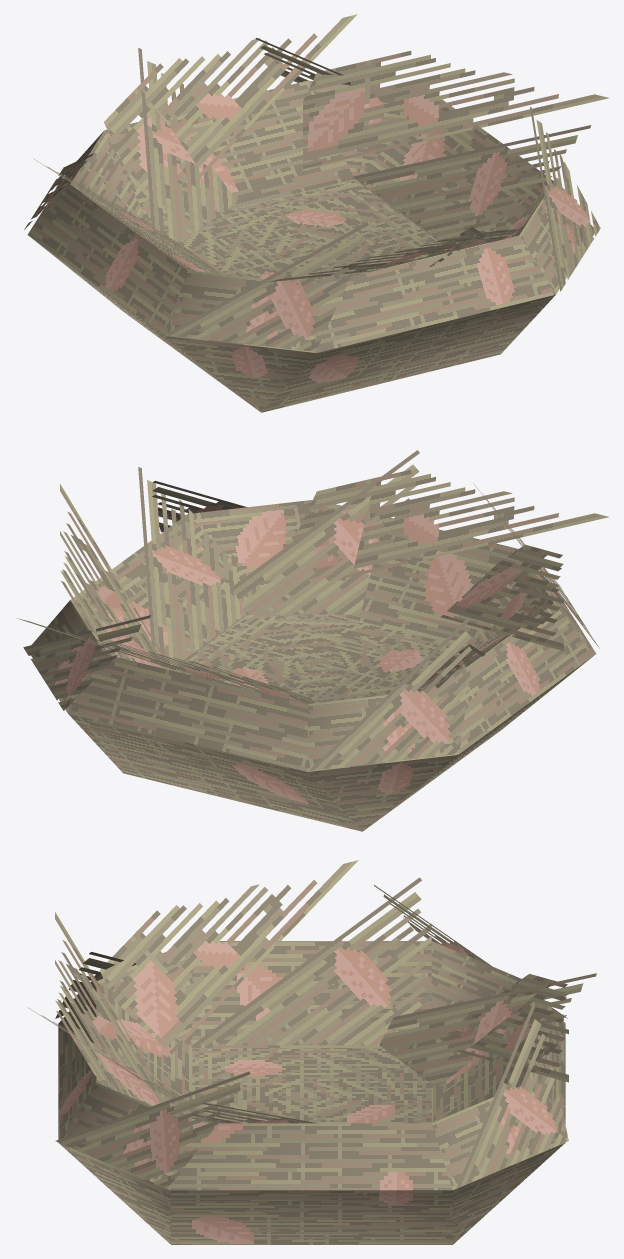
Rendered from 04cc_Bird_s_Nest.glb.
3 renders of one model, top to bottom at view 1: azimuth 30°, elevation 25°; view 2: azimuth 150°, elevation 25°; view 3: azimuth 270°, elevation 25°, orthographic.
Parts seen in each view (by area): view 1: part_0; view 2: part_0; view 3: part_0.
Boxes of the visible parts, box(x1,y1,x2,y2) form: part_0: box(24, 14, 609, 412); part_0: box(17, 450, 608, 831); part_0: box(27, 860, 596, 1244).
Size of the model in its own units: 0.5744 by 0.2092 by 0.5286.
1 material, 1 textured.
